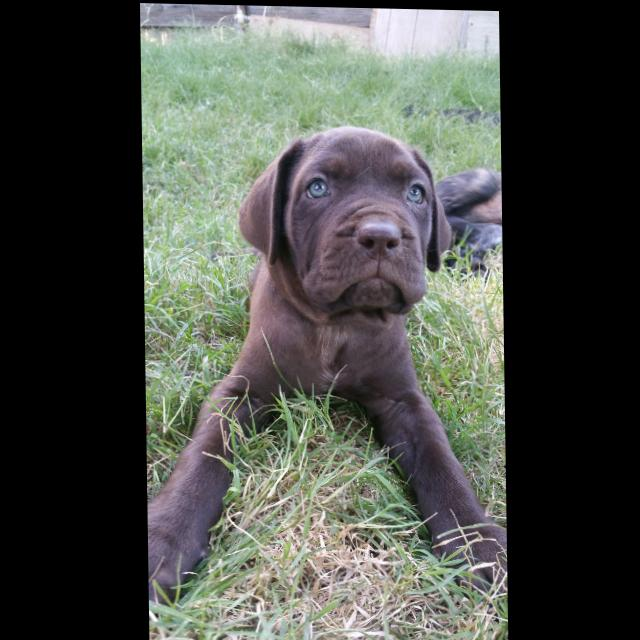other_dog_breed: (143, 120, 508, 617)
